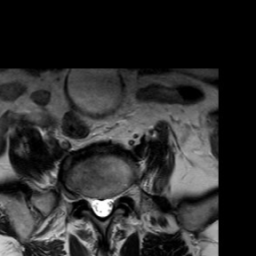CCS_normal: (97, 186, 105, 225)
LFS_stenosis: (114, 180, 123, 209)
LLS_normal: (105, 187, 114, 221)
RFS_stenosis: (80, 184, 89, 209)
RLS_normal: (89, 186, 97, 219)
